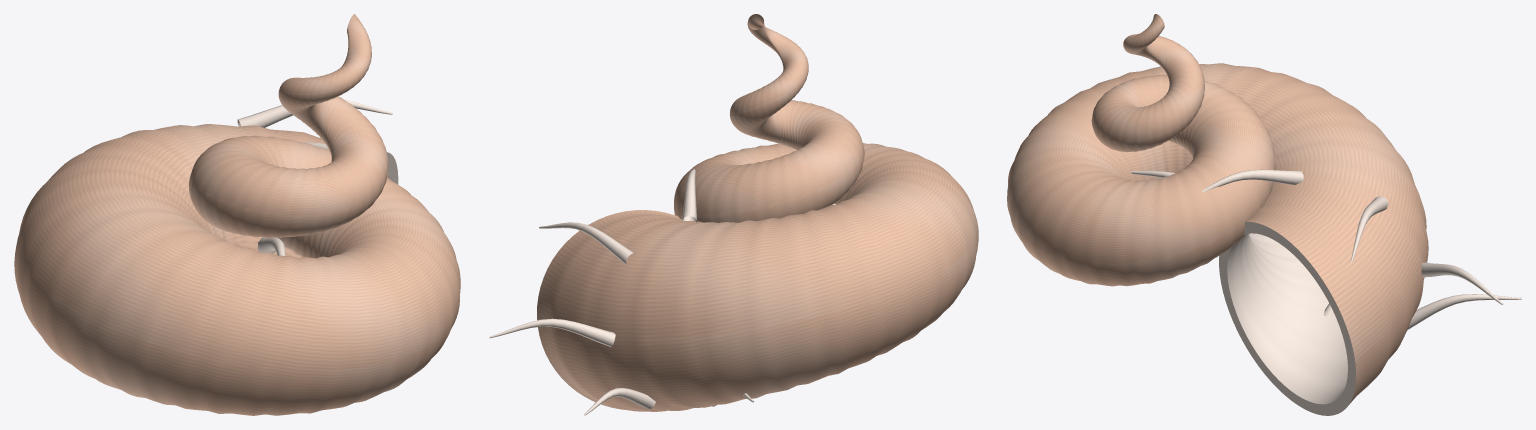
The model's file is spider-conch.glb.
3 renders of one model, left to right at view 1: azimuth 30°, elevation 25°; view 2: azimuth 150°, elevation 25°; view 3: azimuth 270°, elevation 25°, orthographic. The views are drawn at different scales.
Parts seen in each view (by area): view 1: spider-conch.001; view 2: spider-conch.001; view 3: spider-conch.001.
Part boxes in pixels (left/top/right/bottom): spider-conch.001: left=14, top=14, right=460, bottom=415; spider-conch.001: left=489, top=14, right=978, bottom=415; spider-conch.001: left=1007, top=14, right=1521, bottom=415.
Size of the model in its own units: 1.54 by 1.53 by 1.91.
Materials: 10 (1 with a texture image).
